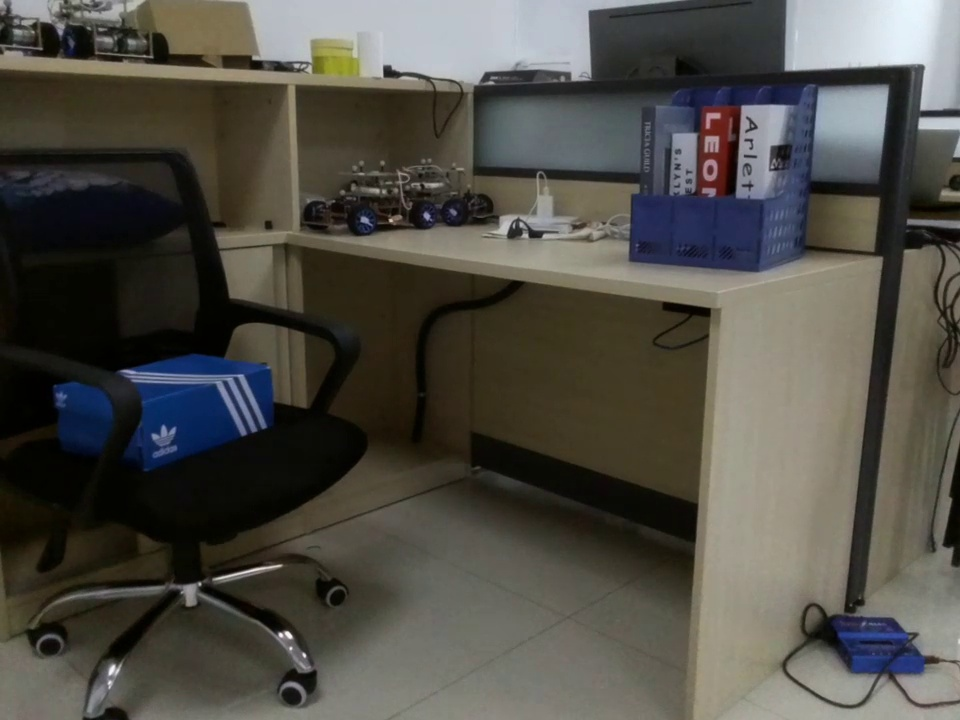files: (630, 78, 819, 269)
